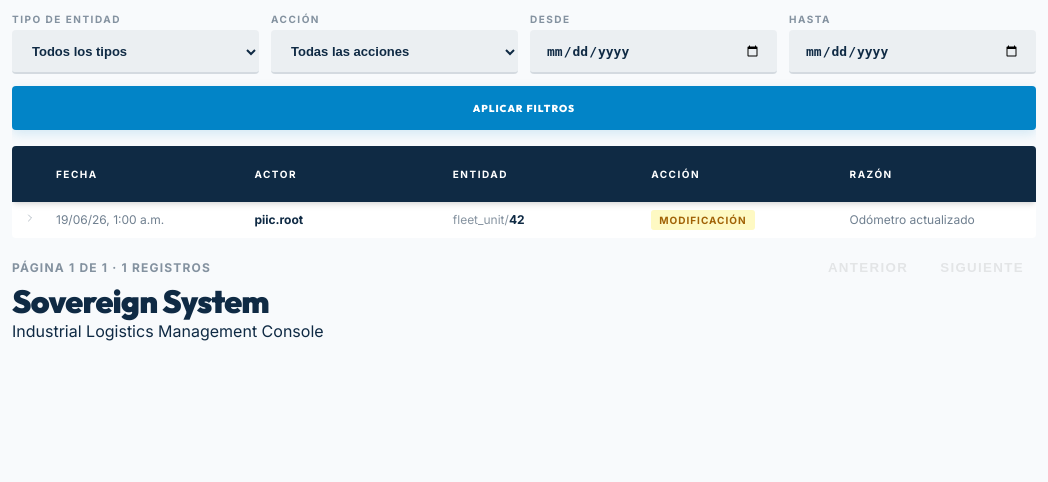
Test: AuditLogView › F3-3: click en fila expande el panel de diff
What coordinates should you click on to do the following:
click the row with test id "audit-row-audit-uuid-001"
I would click on:
 (524, 220)
Its box is [12,202,1036,238].
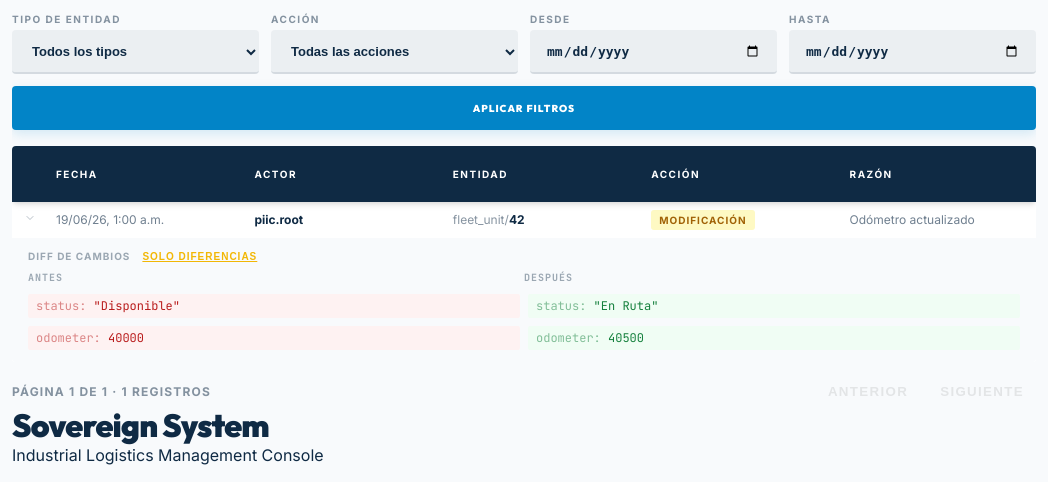
Expected: the row with test id "audit-diff-audit-uuid-001" is shown, [12,238,1036,362]
